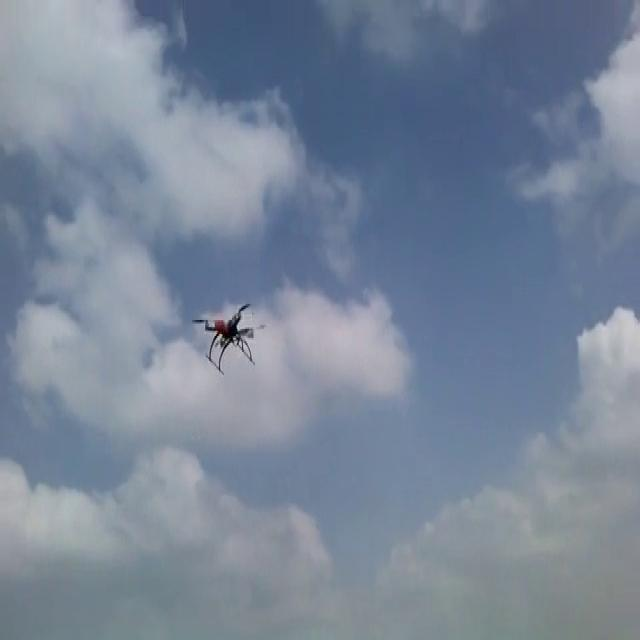drone: (190, 297, 265, 373)
